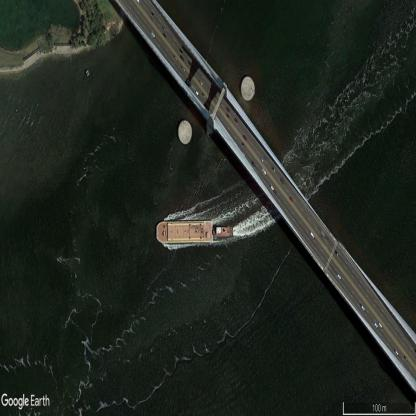ship: (156, 220, 233, 244)
